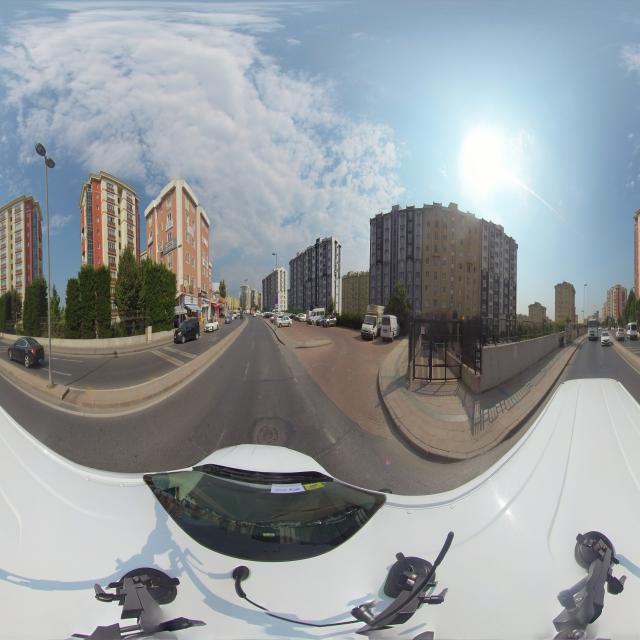SignStore: (184, 295, 198, 305), (201, 298, 210, 306), (211, 295, 216, 304), (201, 290, 206, 298), (190, 285, 193, 293), (217, 301, 219, 305)
